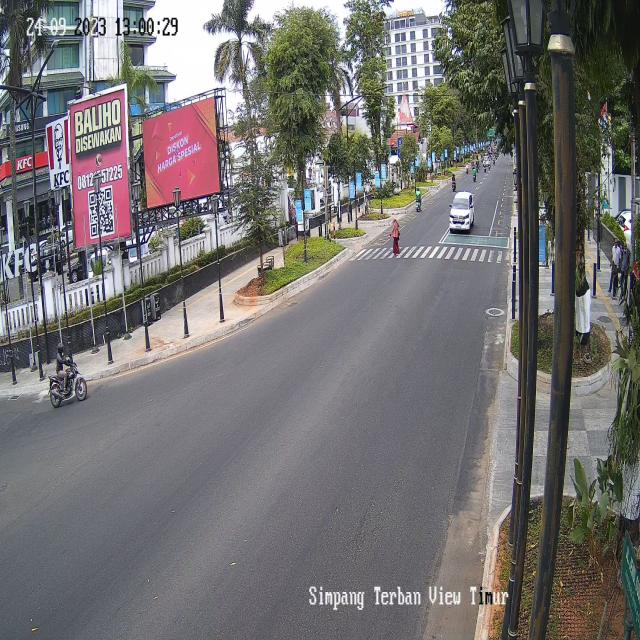car: (448, 191, 476, 232)
motorcycle: (48, 340, 88, 410), (414, 187, 422, 212), (451, 173, 456, 193), (472, 165, 476, 182)
